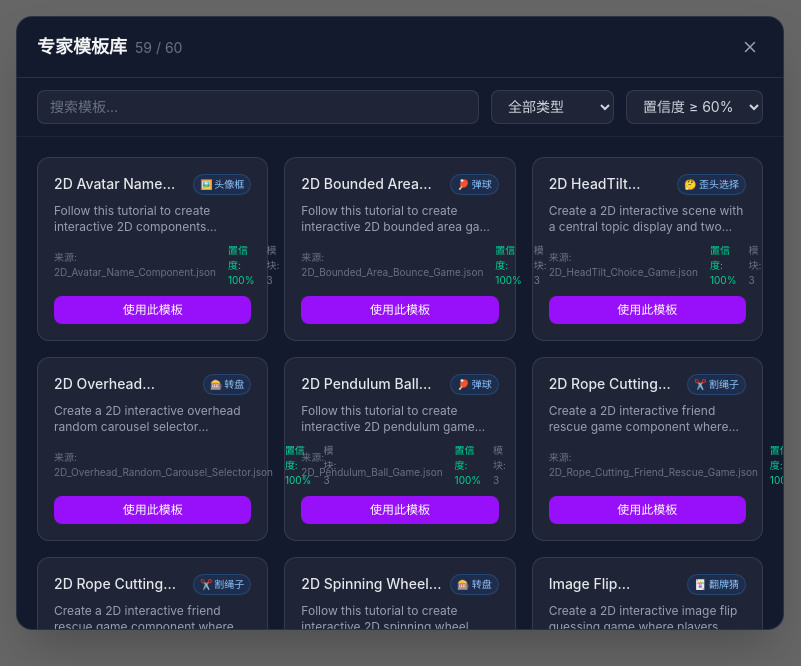
Test: ExpertBrowser › empty state shown when no results match
Type "zzzzzzzznonexistent" into the field with test id "expert-search" at (258, 107), box [37,90,479,124]
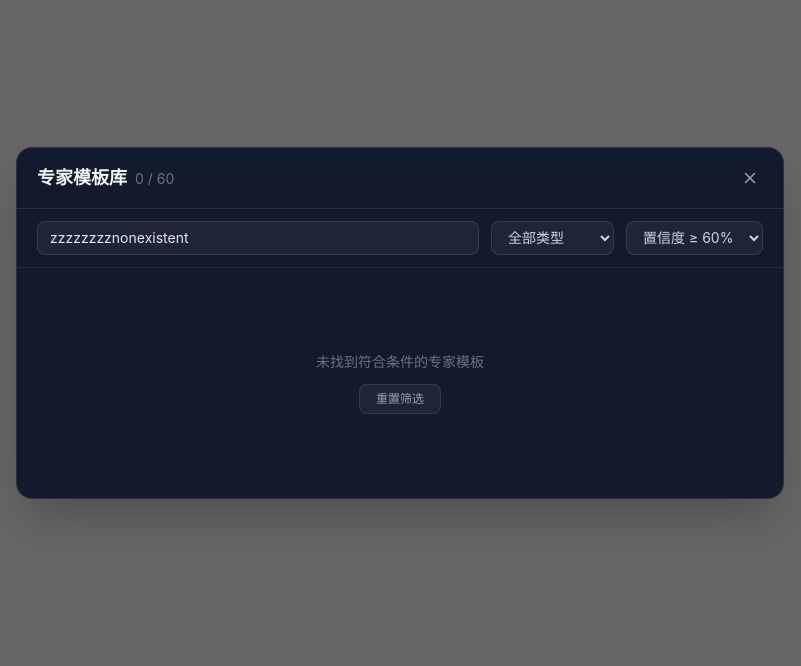
Check: the text "未找到符合条件的专家模板" is shown, box [316,352,484,372]
Check: the button with test id "expert-reset-filters" is shown, box [359,384,441,414]
